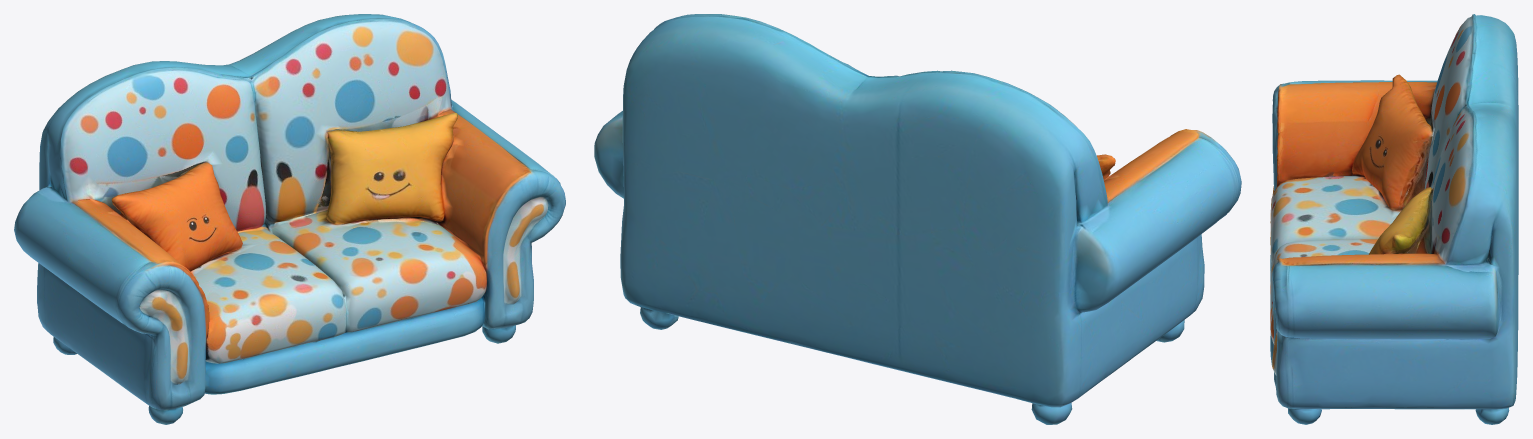
Rendered from sofa.glb.
The picture shows the model from 3 angles, left to right: view 1: azimuth 30°, elevation 25°; view 2: azimuth 150°, elevation 25°; view 3: azimuth 270°, elevation 25°; orthographic projection. The views are drawn at different scales.
Parts seen in each view (by area): view 1: model; view 2: model; view 3: model.
Part boxes in pixels (left/top/right/bottom): model: left=14, top=14, right=565, bottom=424; model: left=594, top=14, right=1241, bottom=424; model: left=1270, top=14, right=1518, bottom=424.
Bounding box in the file's own units: 2 × 1.17 × 0.9857.
Materials: 1 (1 with a texture image).
